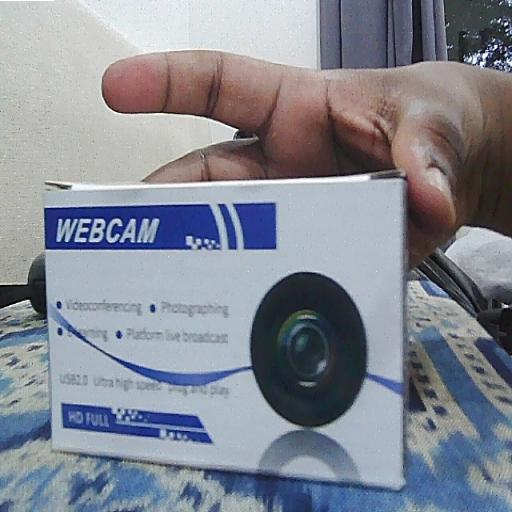webcam_box: (42, 172, 410, 490)
